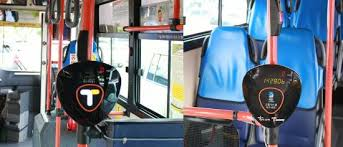terminal: (54, 61, 123, 126)
